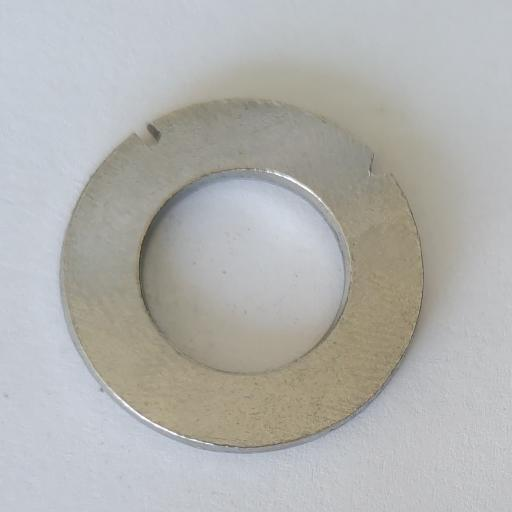burr: (134, 121, 162, 149), (364, 152, 391, 179)
